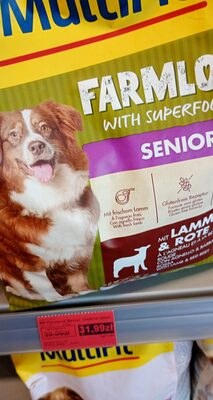Olewo: (11, 20, 202, 380)
